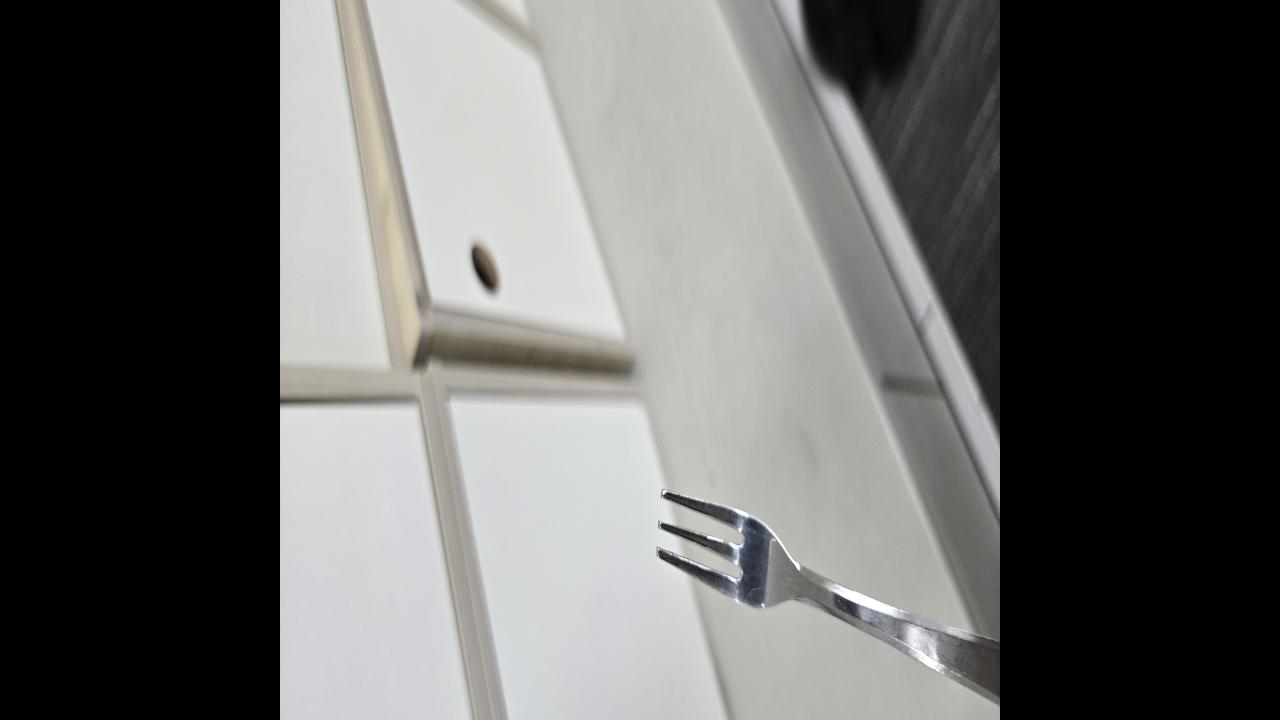fork: (654, 483, 1000, 706)
